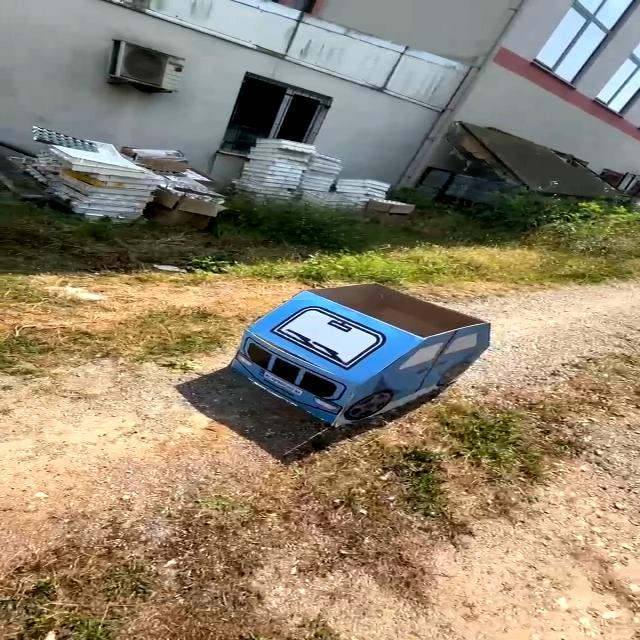blue_car: (205, 266, 519, 446)
